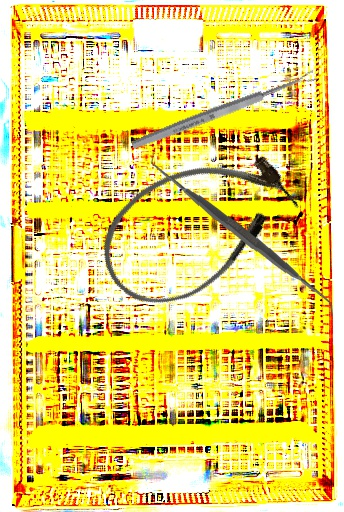Cannula: (79, 125, 314, 329)
Spatula Surgical: (151, 145, 334, 324)
Surgical Spoon: (130, 69, 317, 152)
